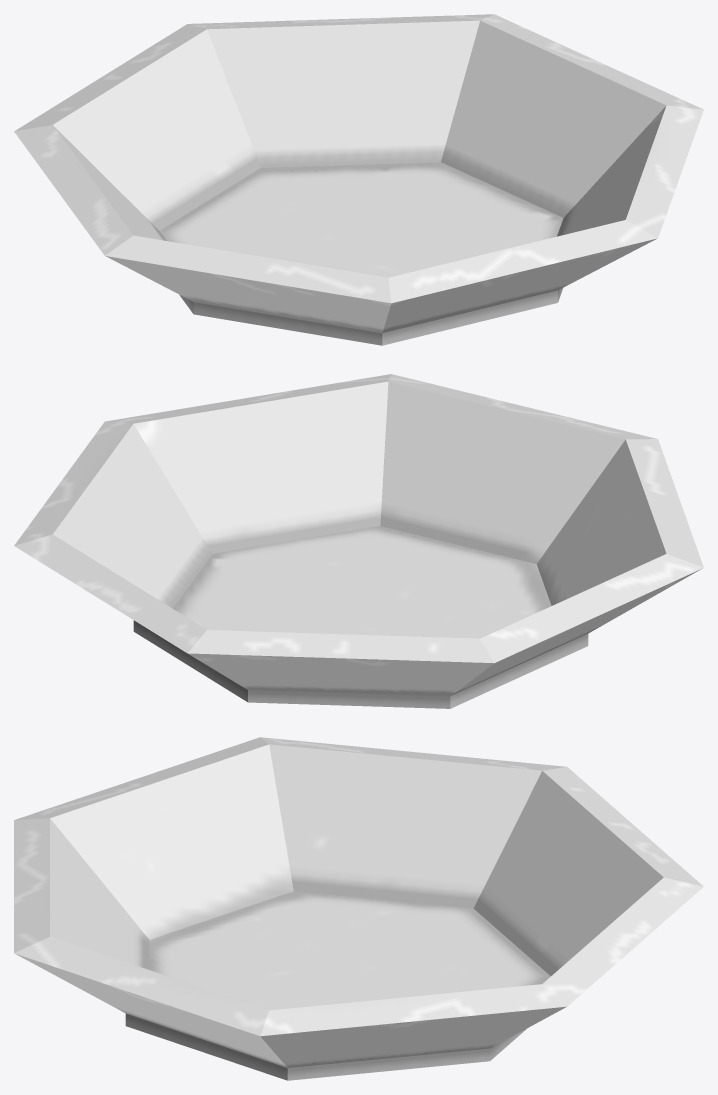
File: bowl.fbx
The picture shows the model from 3 angles, top to bottom: view 1: azimuth 30°, elevation 25°; view 2: azimuth 150°, elevation 25°; view 3: azimuth 270°, elevation 25°; orthographic projection. The views are drawn at different scales.
Visible parts, largest first — view 1: Cylinder; view 2: Cylinder; view 3: Cylinder.
Boxes of the visible parts, <box> form: Cylinder: <box>14,14,703,345</box>; Cylinder: <box>14,374,703,708</box>; Cylinder: <box>14,737,703,1080</box>.
Size of the model in its own units: 34.18 by 5.59 by 33.32.
